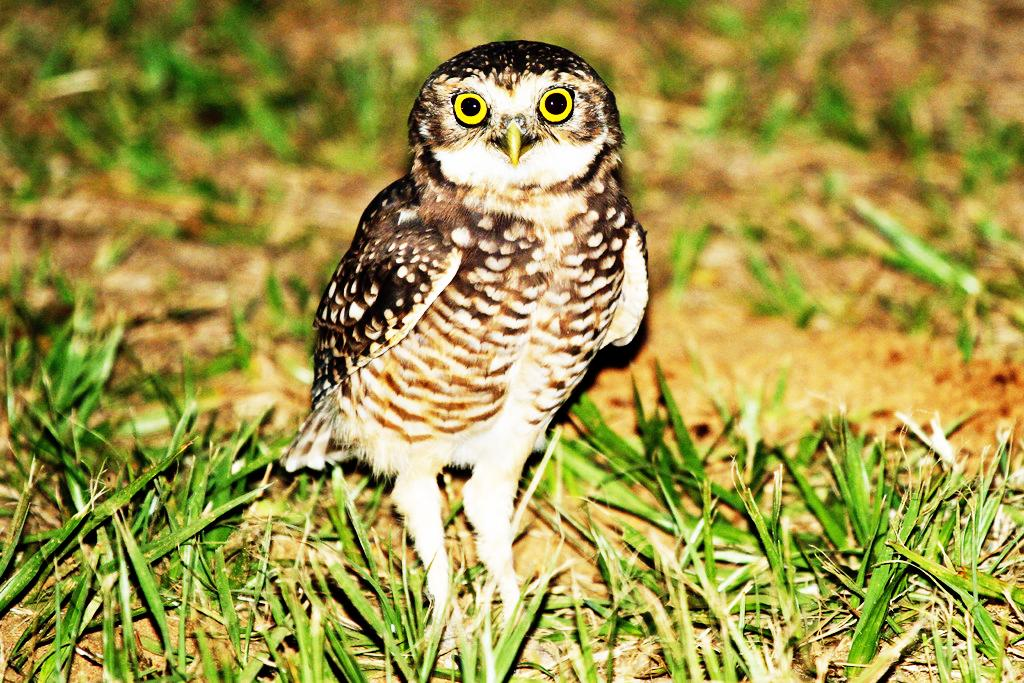Owl: (285, 43, 653, 616)
